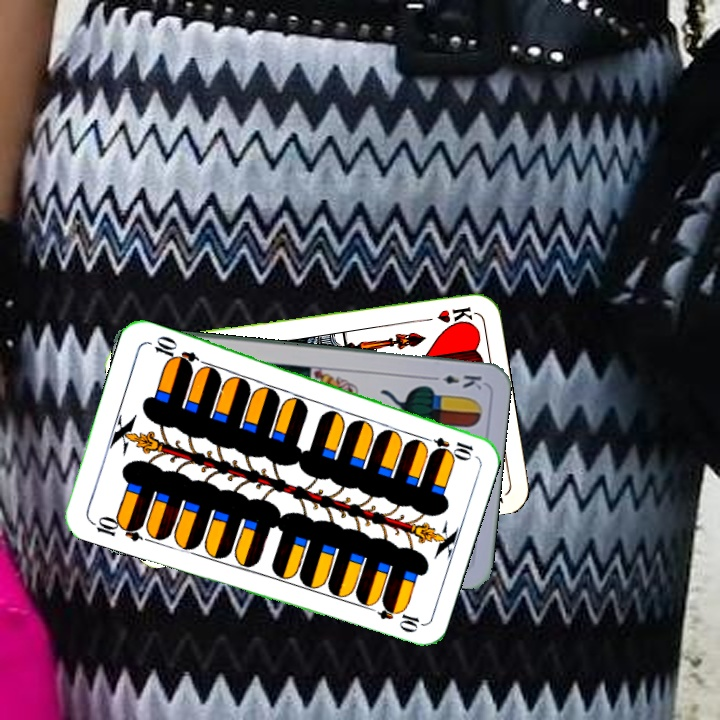E10: (86, 512, 145, 545), (417, 432, 476, 460)
EK: (426, 371, 485, 393)
HK: (416, 302, 476, 326)
